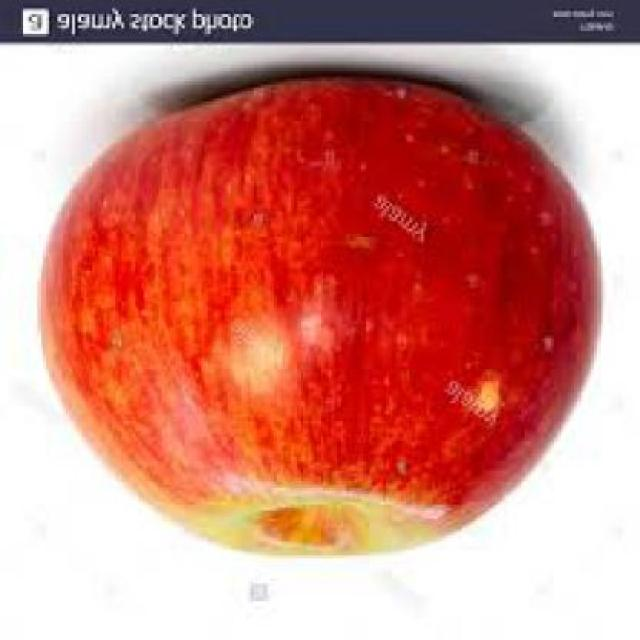BIODEGRADABLE: (40, 78, 598, 560)
